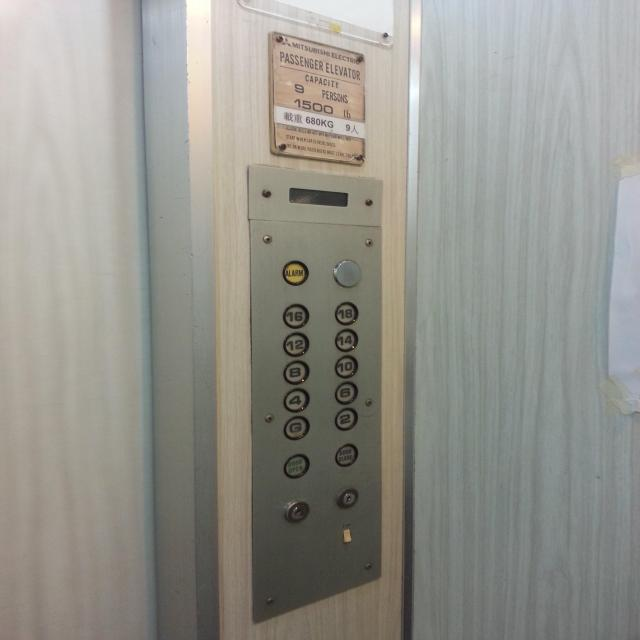10: (334, 354, 358, 379)
12: (282, 330, 310, 358)
14: (334, 328, 358, 353)
16: (282, 302, 310, 330)
18: (334, 301, 358, 326)
2: (334, 406, 358, 432)
4: (282, 386, 310, 413)
6: (334, 380, 358, 405)
8: (282, 359, 310, 386)
G: (283, 413, 311, 441)
empty: (332, 258, 362, 288)
keyhole: (283, 499, 311, 523), (336, 486, 358, 509)
text_alarm bell: (282, 259, 310, 286)
text_door close: (334, 442, 359, 467)
text_door open: (282, 452, 310, 479)
